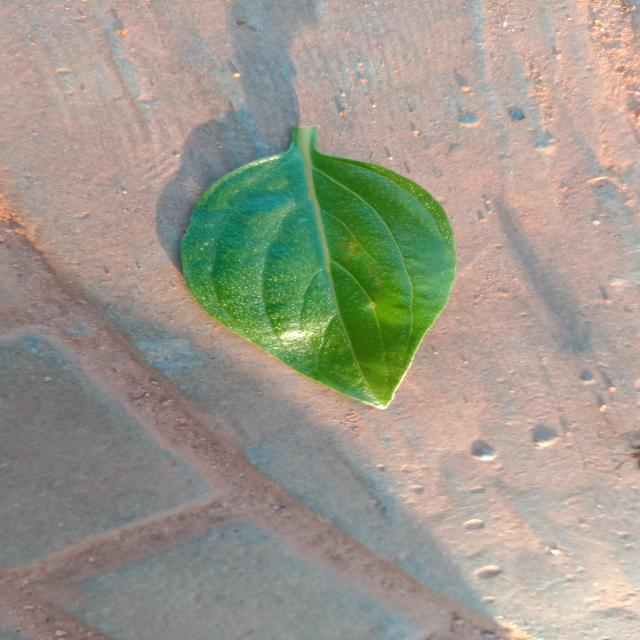kamakasturi: (181, 126, 455, 408)
